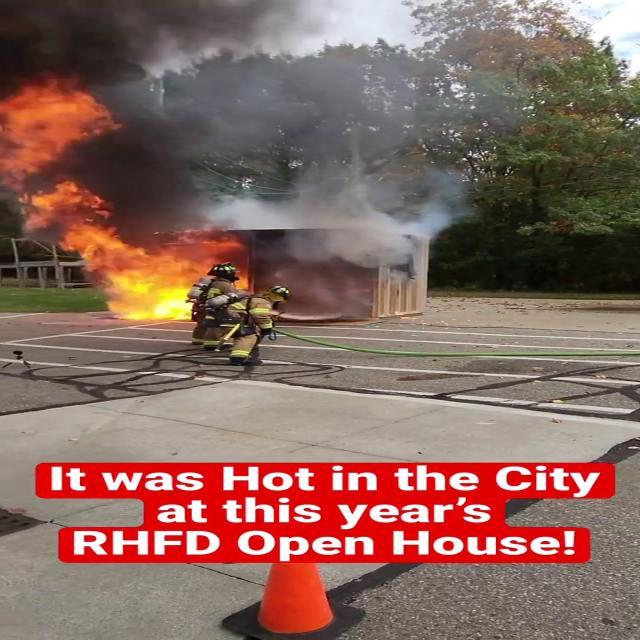Fire: (2, 151, 232, 322)
Smoke: (0, 0, 465, 235), (0, 0, 458, 234)
